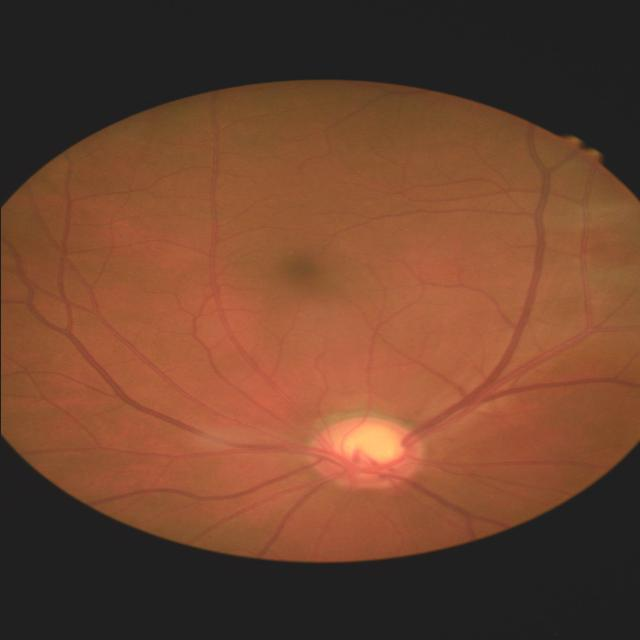cup: (330, 424, 402, 472)
disk: (304, 418, 424, 490)
